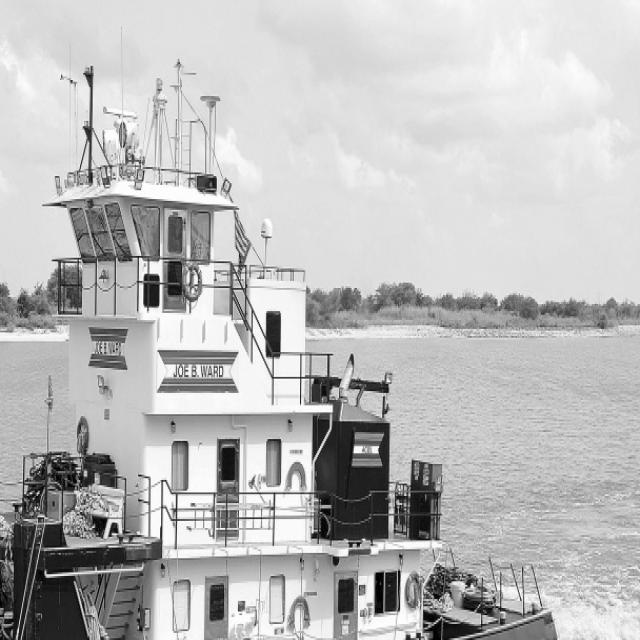tugboat: (1, 58, 575, 640)
